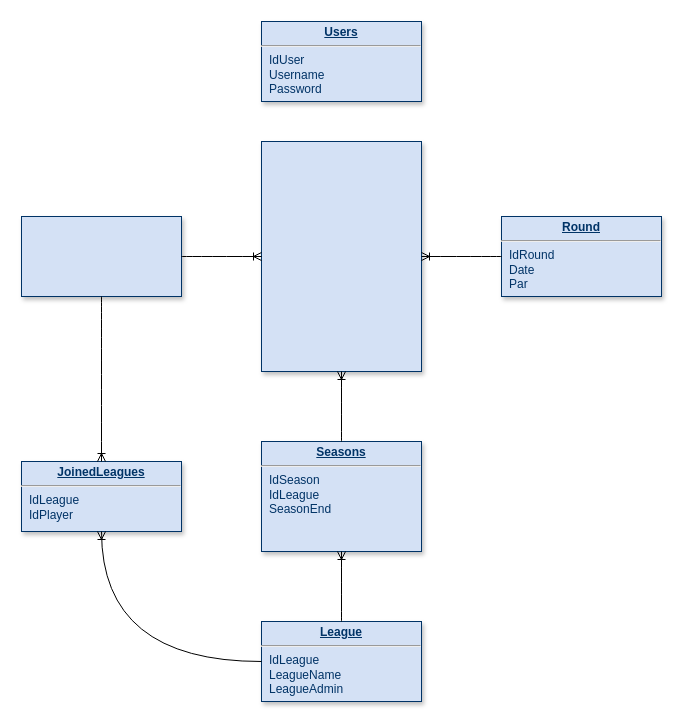
The diagram is 685 pixels wide and 726 high, and some of its shapes have lost their labels. The shapes that lost their labels are listed below. From the top down, each one's centre as x and y in pixels, then its label:
the point at 102,258: Players IdPlayer Name IdUser
the point at 342,257: Scores IdScore IdPlayer IdRound ScoreRaw Handicap ScoreAdj IdSeason
